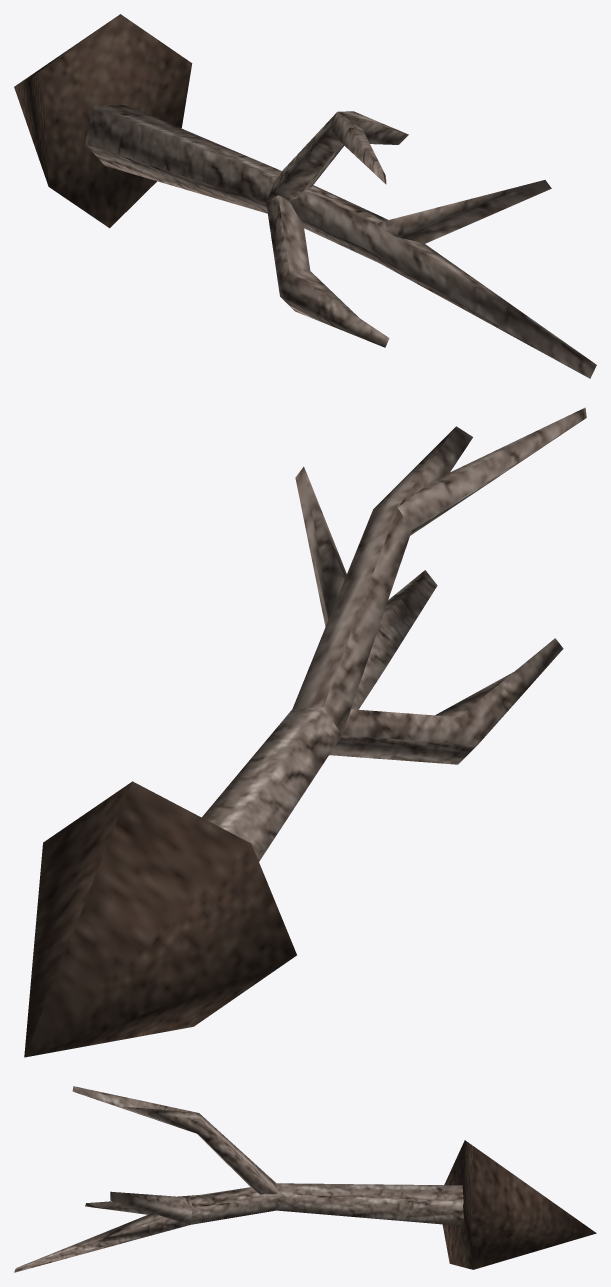
Rendered from fallentree_0.obj.
The picture shows the model from 3 angles, top to bottom: view 1: azimuth 30°, elevation 25°; view 2: azimuth 150°, elevation 25°; view 3: azimuth 270°, elevation 25°; orthographic projection. The views are drawn at different scales.
Parts seen in each view (by area): view 1: fallentree_0; view 2: fallentree_0; view 3: fallentree_0.
Boxes of the visible parts, <box> form: fallentree_0: <box>14,14,596,378</box>; fallentree_0: <box>24,407,586,1057</box>; fallentree_0: <box>14,1086,596,1272</box>.
Bounding box in the file's own units: 3.5 × 3.53 × 10.71.
